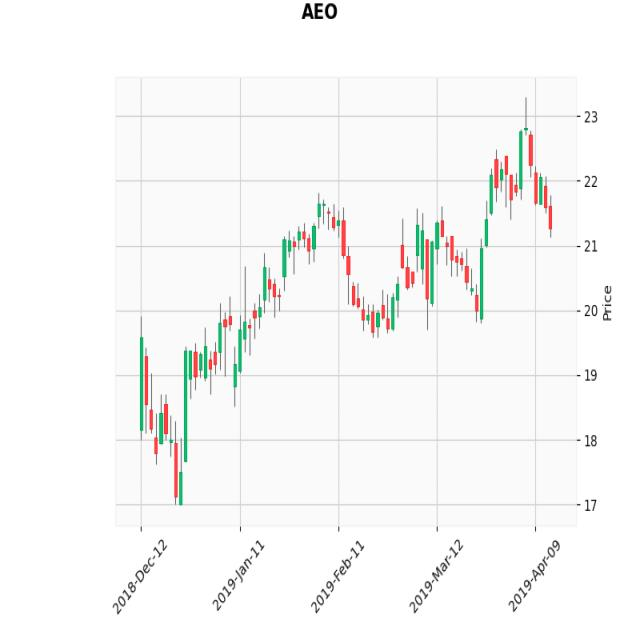Double-Bottom: (323, 163, 517, 343)
